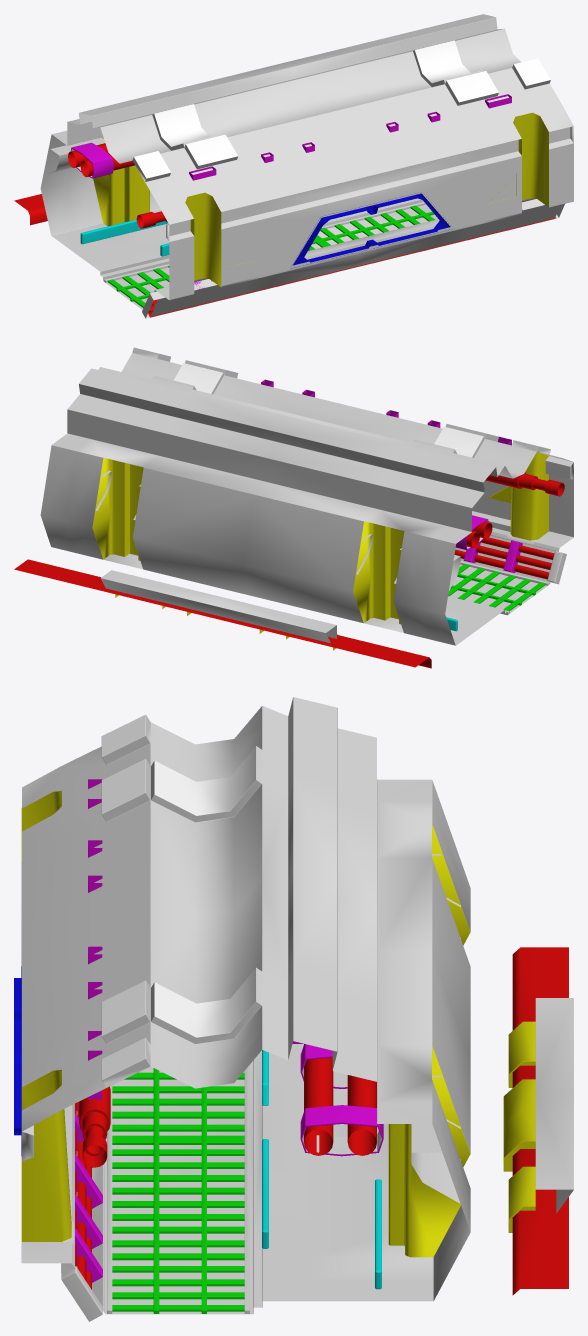
File: Shadow_stage.fbx
3 renders of one model, top to bottom at view 1: azimuth 30°, elevation 25°; view 2: azimuth 150°, elevation 25°; view 3: azimuth 270°, elevation 25°, orthographic. The views are drawn at different scales.
Visible parts, largest first — view 1: Plane; view 2: Plane; view 3: Plane.
Part boxes in pixels (x1,y1,x2,y2): Plane: [14, 14, 573, 318]; Plane: [14, 347, 573, 668]; Plane: [14, 697, 573, 1321].
Size of the model in its own units: 1641 by 2483 by 896.
